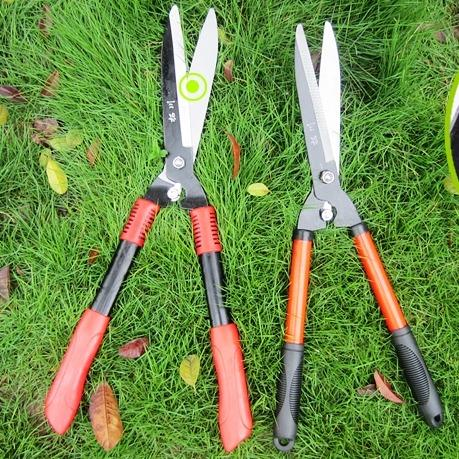scissor: (49, 19, 265, 456), (280, 15, 447, 459)
